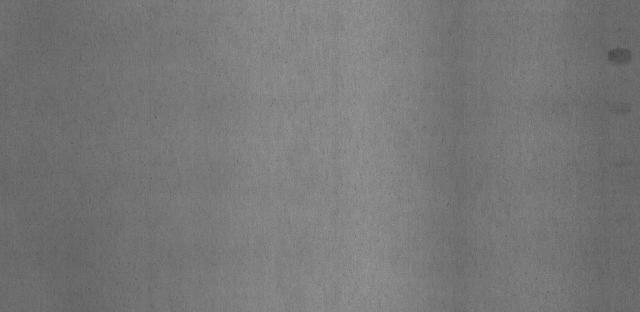oil_spot: (604, 43, 637, 67)
